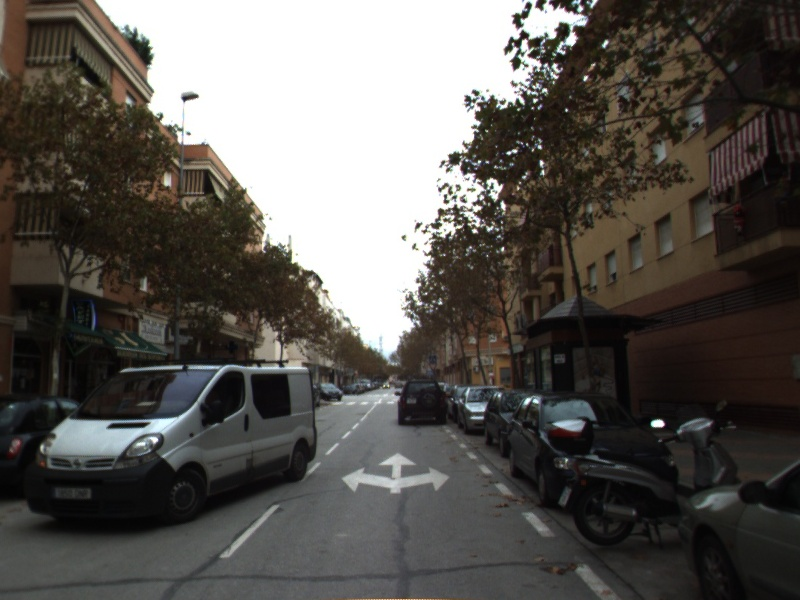STRAIGHT_LEFT_RIGHT: (339, 450, 453, 495)
